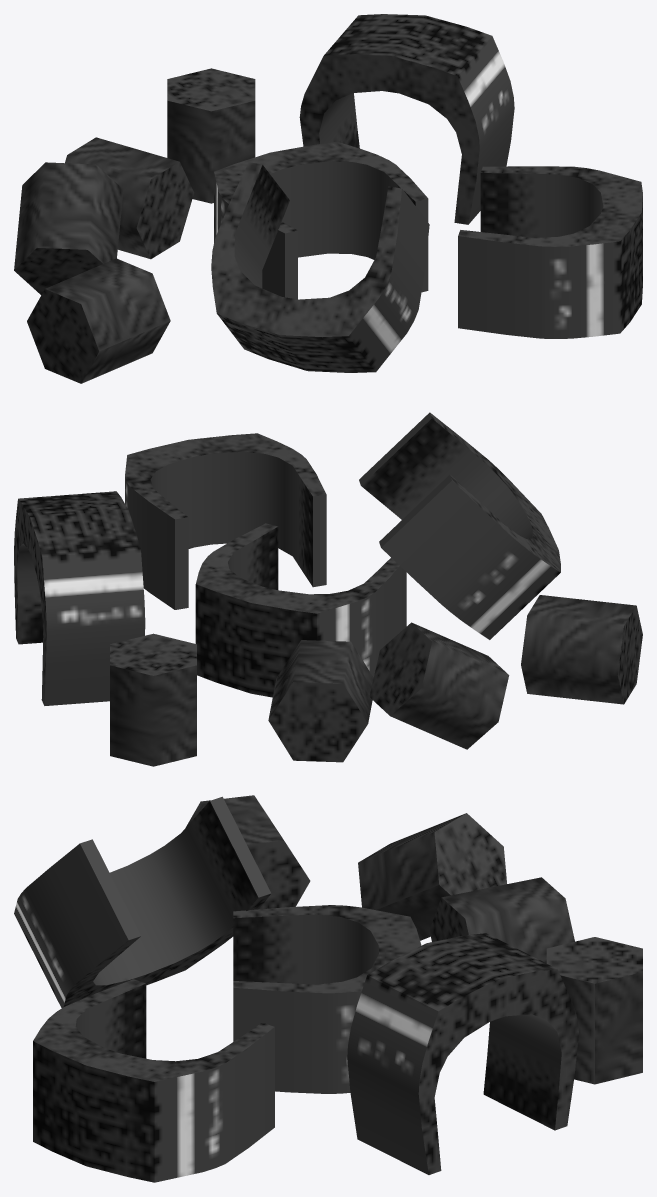
The model's file is ammomaker_RecRubber.fbx.
The picture shows the model from 3 angles, top to bottom: view 1: azimuth 30°, elevation 25°; view 2: azimuth 150°, elevation 25°; view 3: azimuth 270°, elevation 25°; orthographic projection. The views are drawn at different scales.
Parts seen in each view (by area): view 1: ammomaker_RecRubber; view 2: ammomaker_RecRubber; view 3: ammomaker_RecRubber.
Part boxes in pixels (<box>): ammomaker_RecRubber: <box>14,14,642,383</box>; ammomaker_RecRubber: <box>14,412,642,766</box>; ammomaker_RecRubber: <box>14,795,642,1182</box>.
Size of the model in its own units: 12.63 by 3.84 by 11.32.
